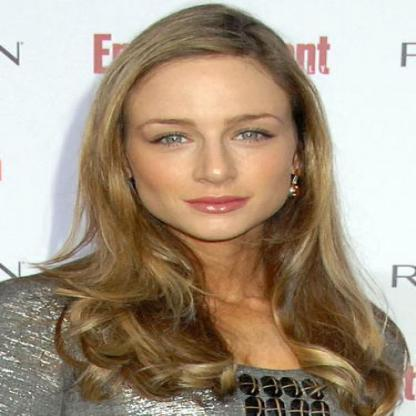long-hair: (48, 242, 349, 286)
